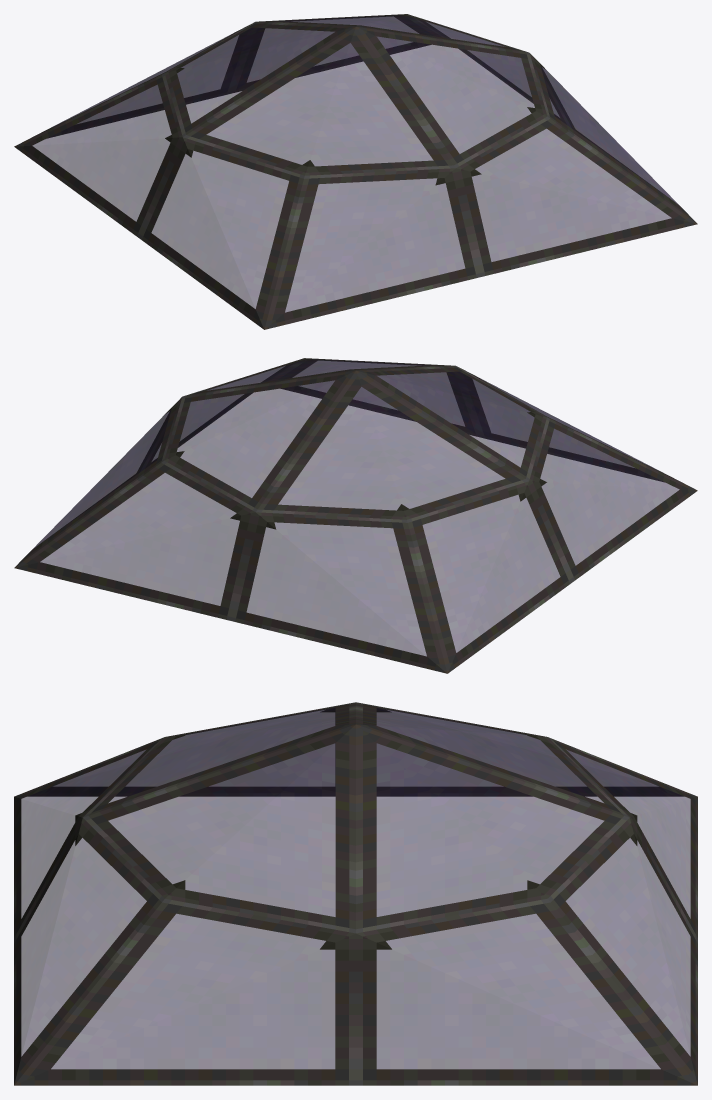
3 renders of one model, top to bottom at view 1: azimuth 30°, elevation 25°; view 2: azimuth 150°, elevation 25°; view 3: azimuth 270°, elevation 25°, orthographic. The views are drawn at different scales.
Visible parts, largest first — view 1: Conft_obj_066; view 2: Conft_obj_066; view 3: Conft_obj_066.
Boxes of the visible parts, x1,y1,x2,y2 form: Conft_obj_066: (14, 14, 697, 329); Conft_obj_066: (14, 358, 697, 673); Conft_obj_066: (14, 702, 697, 1085).
Bounding box in the file's own units: 2 × 0.6992 × 2.
1 material, 1 textured.
